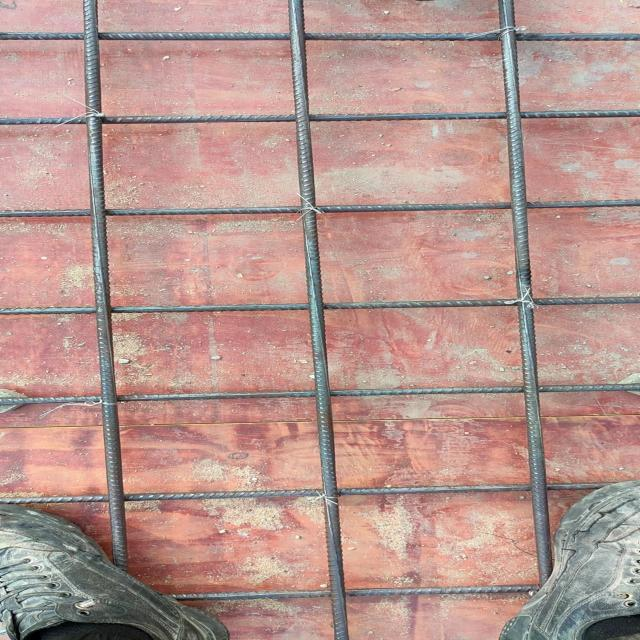ribbed bar: (282, 0, 354, 640), (495, 0, 559, 587), (80, 0, 132, 571), (0, 382, 639, 407), (0, 481, 612, 506), (0, 197, 639, 219), (0, 296, 639, 317), (0, 108, 639, 127), (161, 582, 556, 603), (0, 31, 639, 42)
